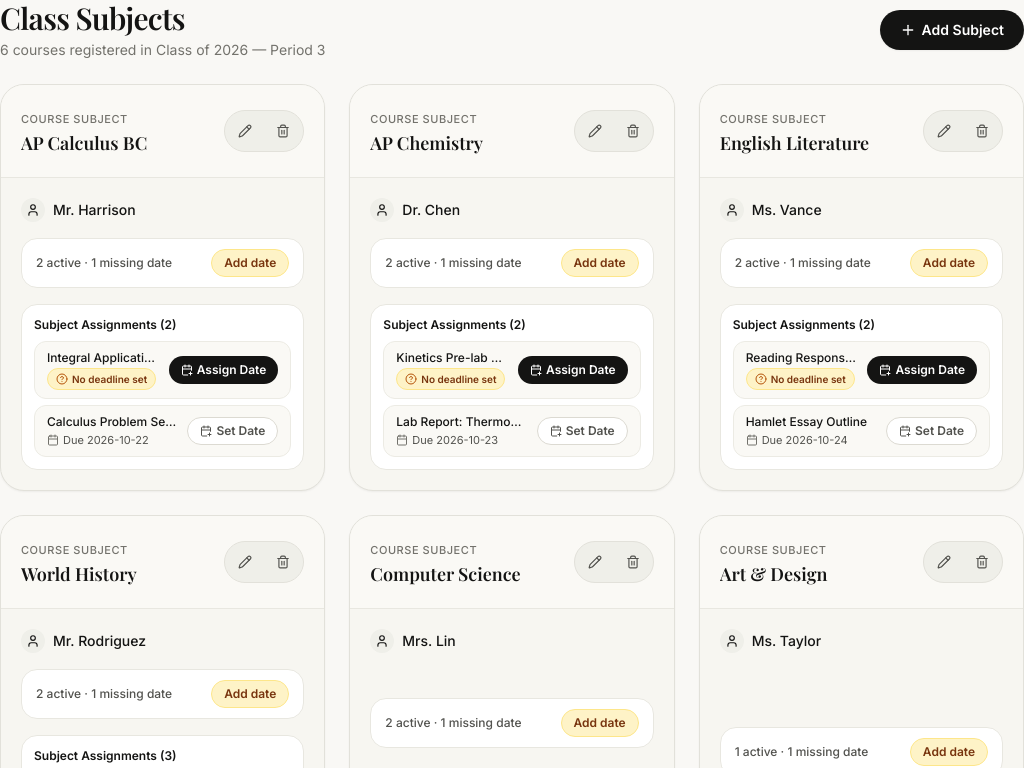
it: SubjectsScreen Component › records subject creation and edits to history with student attribution
Expected: the heading "AP Calculus BC" is shown, [21,129,147,157]
// Add subject
Click the button "Add Subject": (952, 30) [880,10,1023,50]
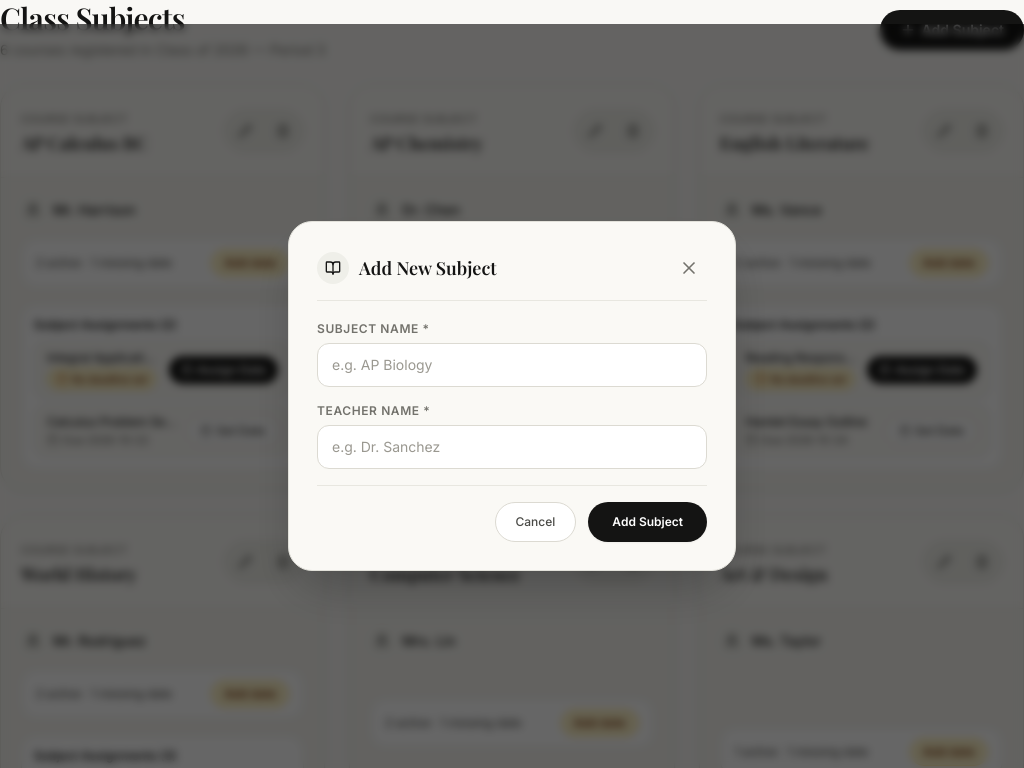
In the field labelled "Subject Name *": (512, 365) [317,343,707,387], type "Astrophysics"
In the field labelled "Teacher Name *": (512, 447) [317,425,707,469], type "Dr. Sagan"
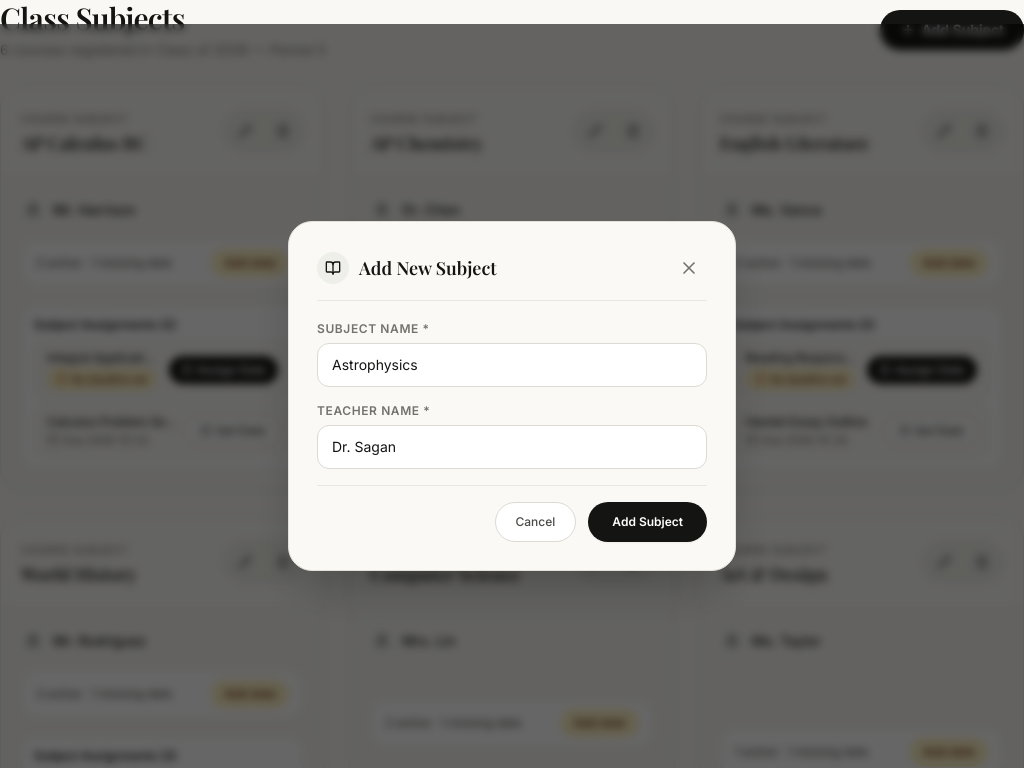
Click the button "Add Subject": (648, 522) [588,502,707,542]
(page scrolled)
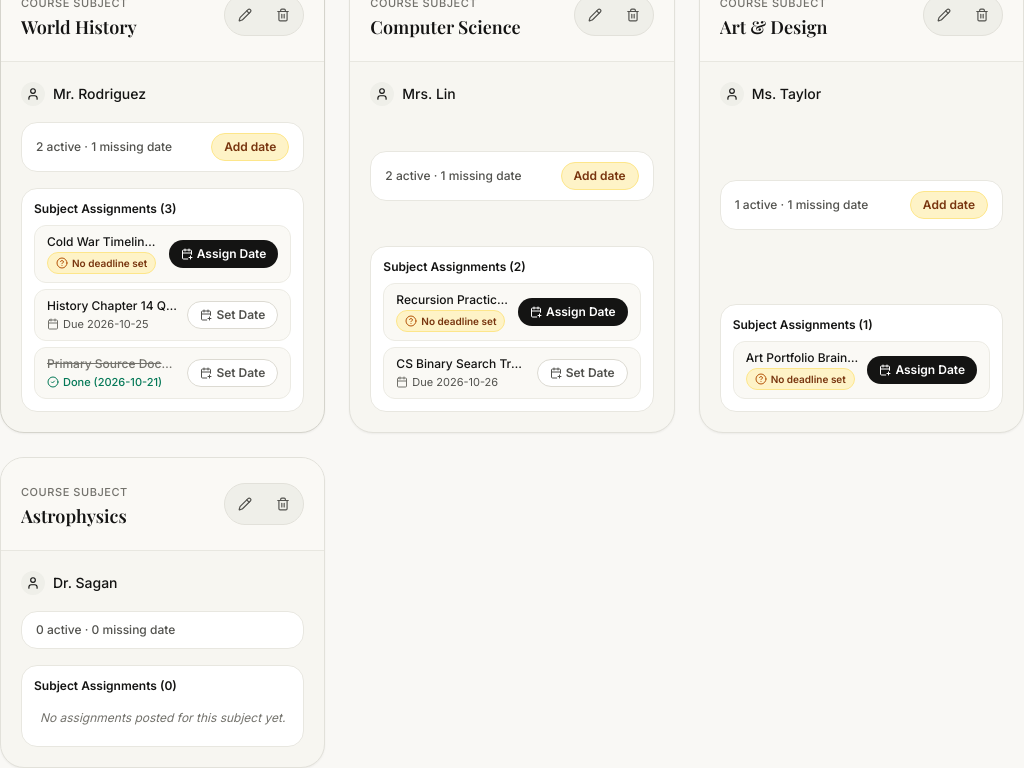
Now the heading "Astrophysics" is shown, box [21,502,128,530]
// Edit subject
Click the button named "edit astrophysics": (245, 504) [229,488,261,520]
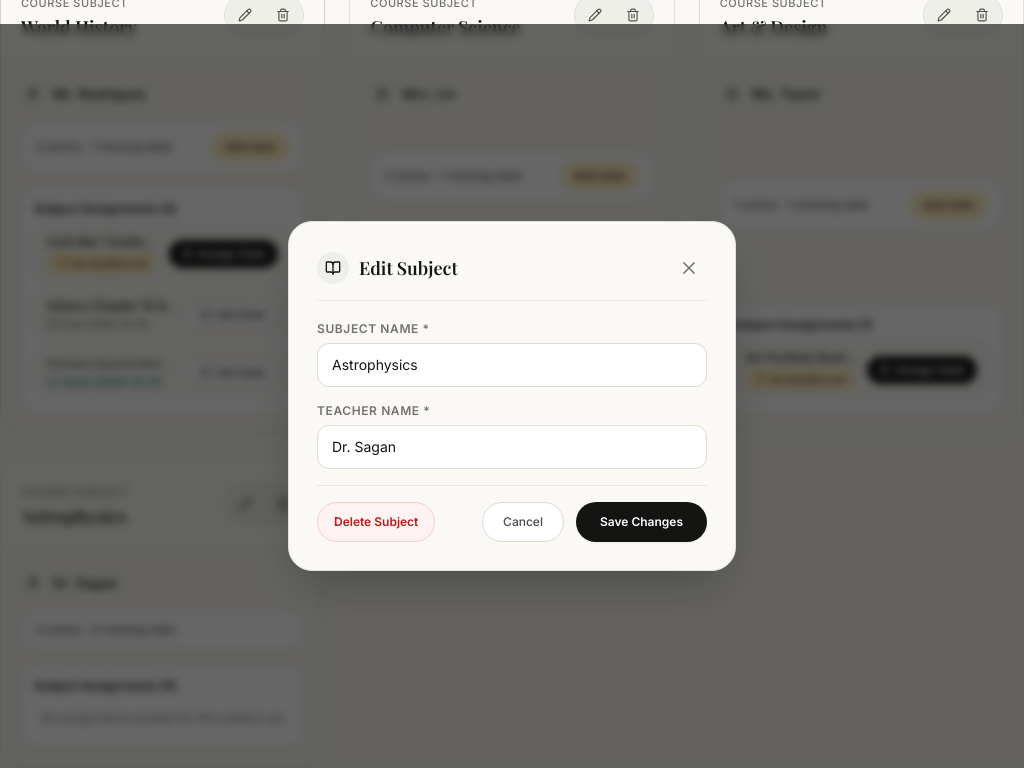
Replace the text in the field labelled "Teacher Name *" with "Prof. Hawking": (512, 447) [317,425,707,469]
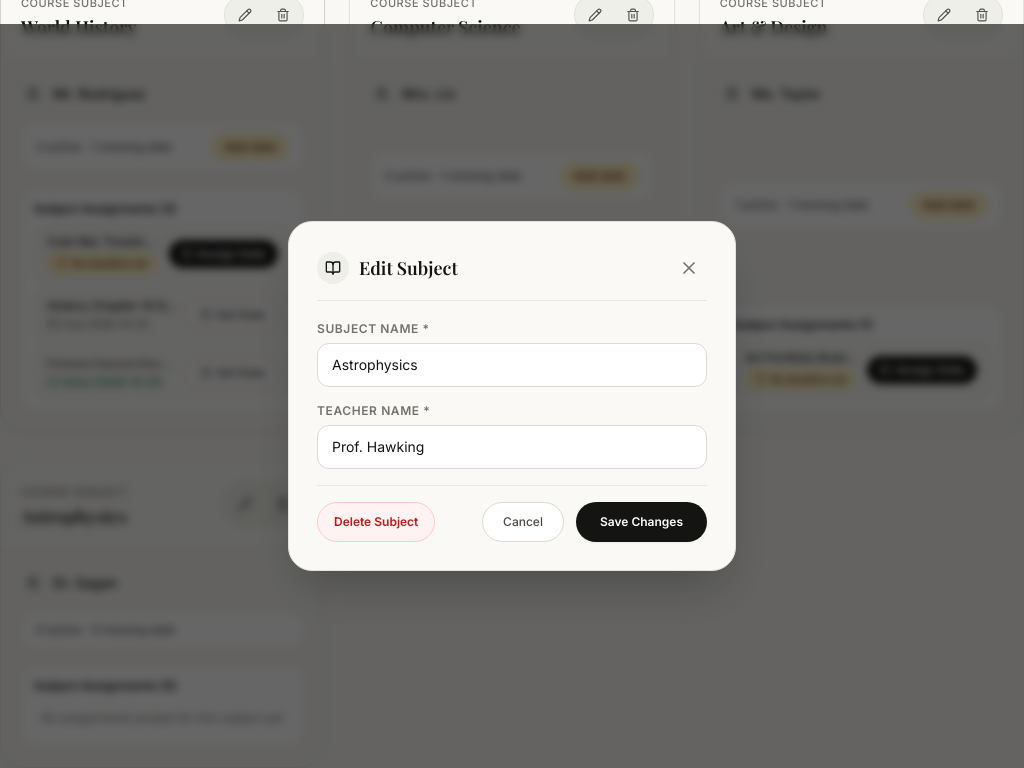
Click the button "Save Changes": (641, 522) [576,502,707,542]
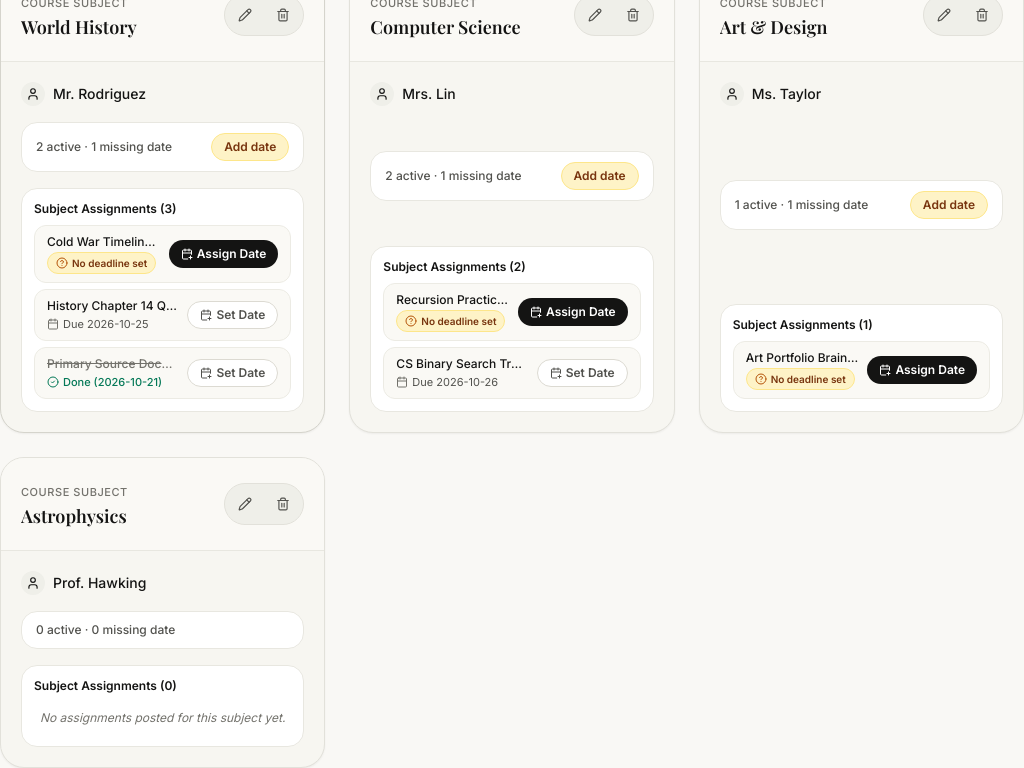
Now the text "Prof. Hawking" is shown, box [53,573,146,593]
